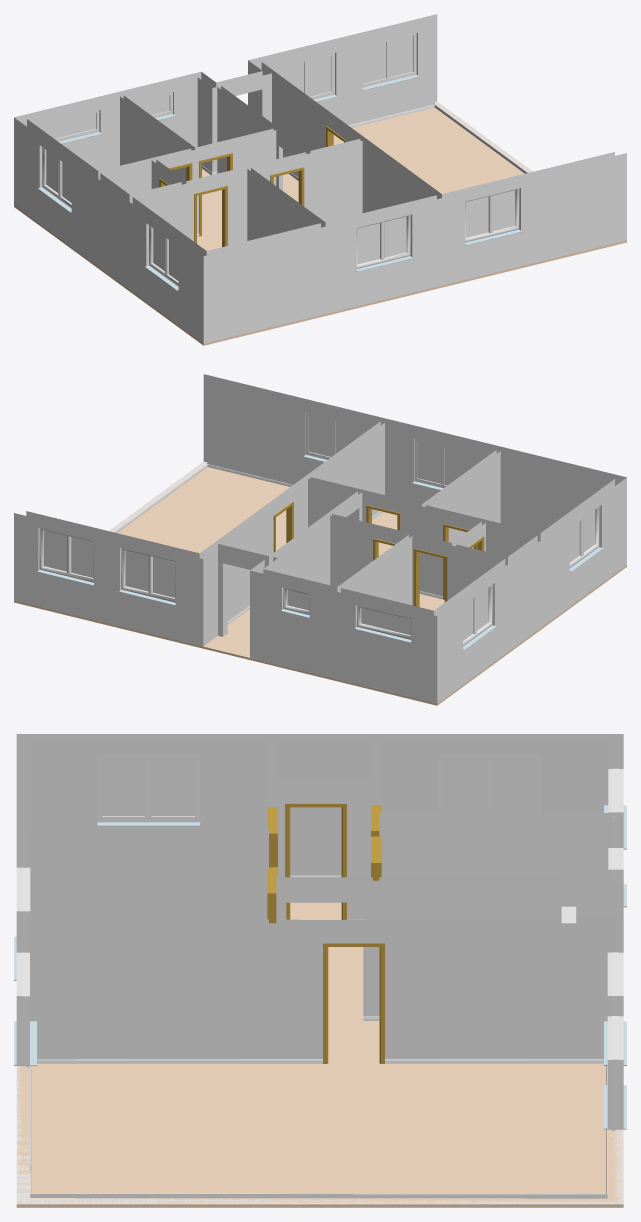
The model's file is enviroment.dae.
3 views of the same model, one above another, from view 1: azimuth 30°, elevation 25°; view 2: azimuth 150°, elevation 25°; view 3: azimuth 270°, elevation 25° (orthographic). The views are drawn at different scales.
Visible parts, largest first — view 1: MAUERWERK.039, MAUERWERK.038, Deckfläche_1, MAUERWERK.030, MAUERWERK.027, MAUERWERK.023, MAUERWERK.004, MAUERWERK.014, MAUERWERK.026, MAUERWERK.022, MAUERWERK.015, MAUERWERK.001 (+28 smaller); view 2: MAUERWERK.037, MAUERWERK.038, MAUERWERK.033, Deckfläche_1, MAUERWERK.032, MAUERWERK.025, MAUERWERK.004, MAUERWERK.029, MAUERWERK.003, MAUERWERK.022, MAUERWERK.026, MAUERWERK.012 (+29 smaller); view 3: Deckfläche_1, MAUERWERK.031, MAUERWERK.028, MAUERWERK.024, MAUERWERK.013, MAUERWERK.006, MAUERWERK.017, MAUERWERK.018, MAUERWERK.038, Sweep, Glas.006, Glas.007 (+18 smaller).
Part boxes in pixels (left/top/right/bottom): MAUERWERK.039: left=203, top=153, right=626, bottom=343; MAUERWERK.038: left=14, top=117, right=203, bottom=343; Deckfläche_1: left=197, top=102, right=532, bottom=250; MAUERWERK.030: left=262, top=19, right=434, bottom=125; MAUERWERK.027: left=251, top=140, right=362, bottom=222; MAUERWERK.023: left=133, top=169, right=247, bottom=245; MAUERWERK.004: left=272, top=73, right=359, bottom=177; MAUERWERK.014: left=27, top=96, right=119, bottom=170; MAUERWERK.026: left=362, top=141, right=436, bottom=212; MAUERWERK.022: left=247, top=169, right=320, bottom=240; MAUERWERK.015: left=120, top=96, right=190, bottom=180; MAUERWERK.001: left=156, top=130, right=276, bottom=233; MAUERWERK.037: left=250, top=570, right=437, bottom=703; MAUERWERK.038: left=437, top=477, right=626, bottom=703; MAUERWERK.033: left=14, top=513, right=203, bottom=646; Deckfläche_1: left=110, top=462, right=444, bottom=657; MAUERWERK.032: left=207, top=379, right=380, bottom=484; MAUERWERK.025: left=500, top=451, right=614, bottom=532; MAUERWERK.004: left=218, top=479, right=307, bottom=621; MAUERWERK.029: left=385, top=422, right=496, bottom=503; MAUERWERK.003: left=362, top=492, right=481, bottom=596; MAUERWERK.022: left=426, top=451, right=500, bottom=548; MAUERWERK.026: left=311, top=423, right=384, bottom=516; MAUERWERK.012: left=330, top=515, right=408, bottom=586; Deckfläche_1: left=16, top=902, right=623, bottom=1204; MAUERWERK.031: left=30, top=923, right=607, bottom=1058; MAUERWERK.028: left=30, top=832, right=268, bottom=919; MAUERWERK.024: left=31, top=740, right=268, bottom=829; MAUERWERK.013: left=379, top=816, right=608, bottom=877; MAUERWERK.006: left=276, top=880, right=561, bottom=1016; MAUERWERK.017: left=380, top=740, right=608, bottom=812; MAUERWERK.018: left=278, top=740, right=372, bottom=875; MAUERWERK.038: left=16, top=734, right=623, bottom=867; Sweep: left=30, top=1059, right=607, bottom=1198; Glas.006: left=102, top=758, right=194, bottom=816; Glas.007: left=443, top=758, right=536, bottom=812.
Bounding box in the file's own units: 7.12 × 5.56 × 1.44.
